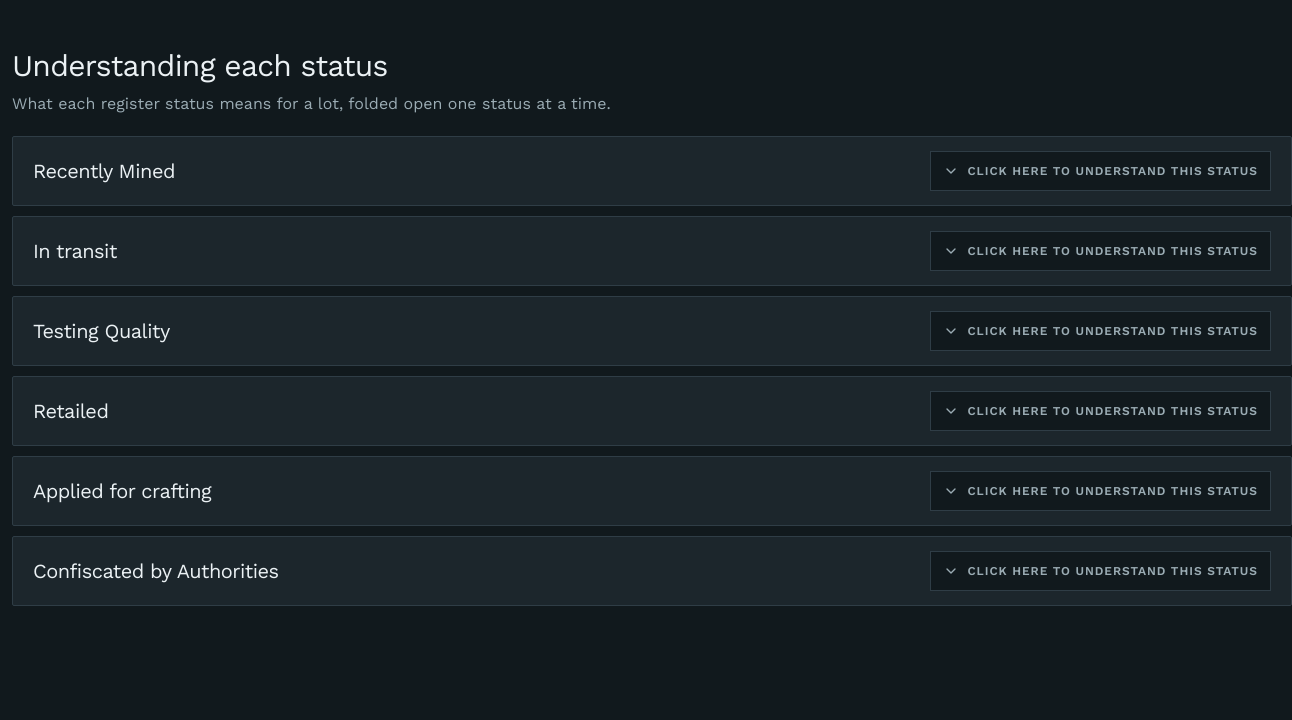
Test: Status information section › expands only the clicked status and collapses the previous one
Click the button with test id "home.status_info_toggle.1": (1101, 171) left=930, top=151, right=1271, bottom=191
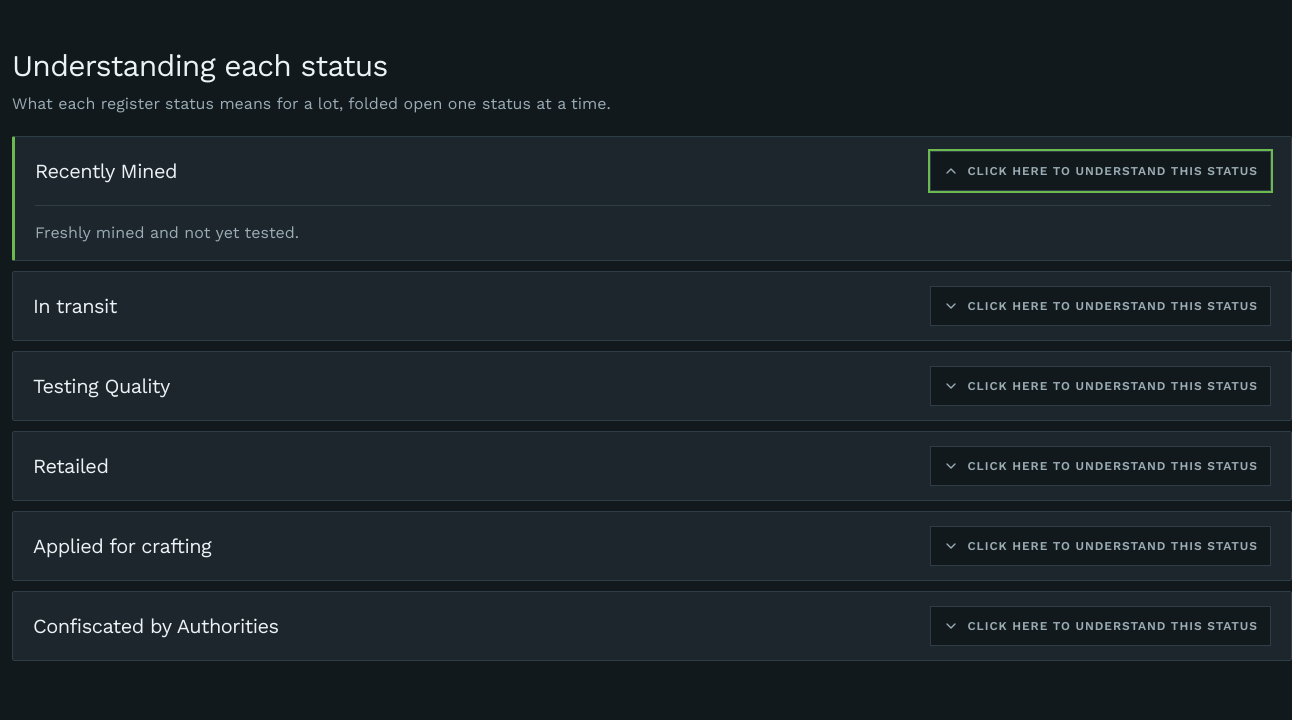
Now the button with test id "home.status_info_toggle.1" is expanded, box left=930, top=151, right=1271, bottom=191
Now the element with test id "home.status_info_panel.1" is shown, box left=35, top=205, right=1271, bottom=246
Note: Opening another status collapses the first: only one is open at a time.
Click the button with test id "home.status_info_toggle.2": (1101, 306) left=930, top=286, right=1271, bottom=326
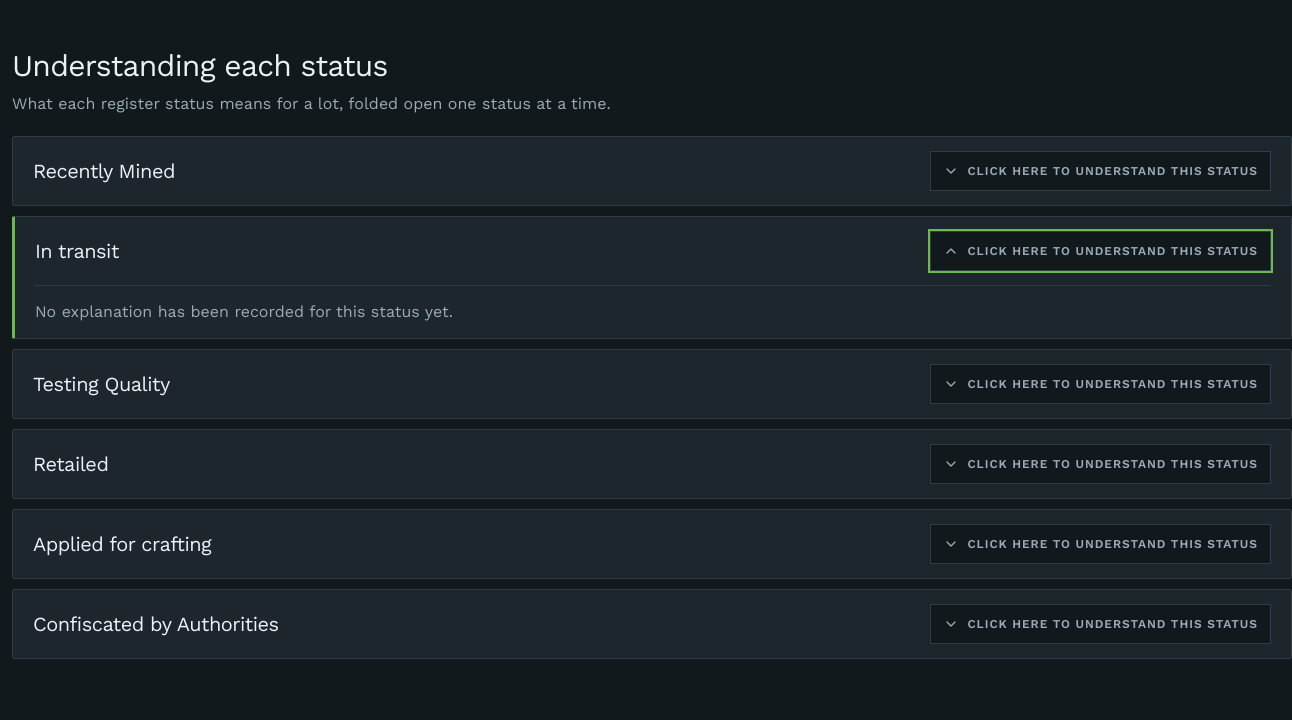
Now the button with test id "home.status_info_toggle.2" is expanded, box left=930, top=231, right=1271, bottom=271
Now the button with test id "home.status_info_toggle.1" is collapsed, box left=930, top=151, right=1271, bottom=191
Now the element with test id "home.status_info_panel.2" is shown, box left=35, top=285, right=1271, bottom=324
